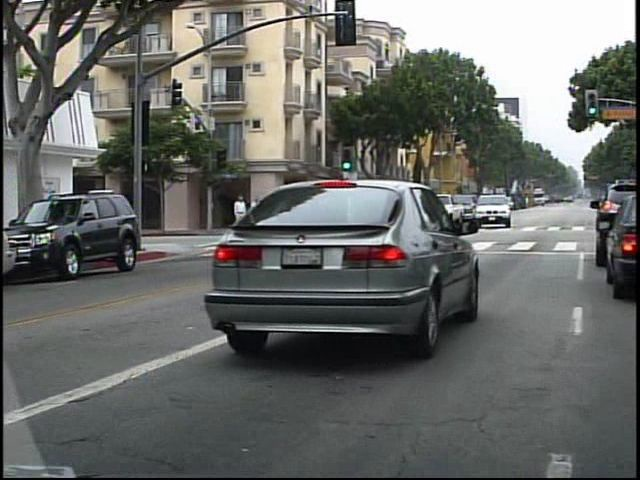person: (228, 191, 247, 239), (248, 194, 267, 235)
